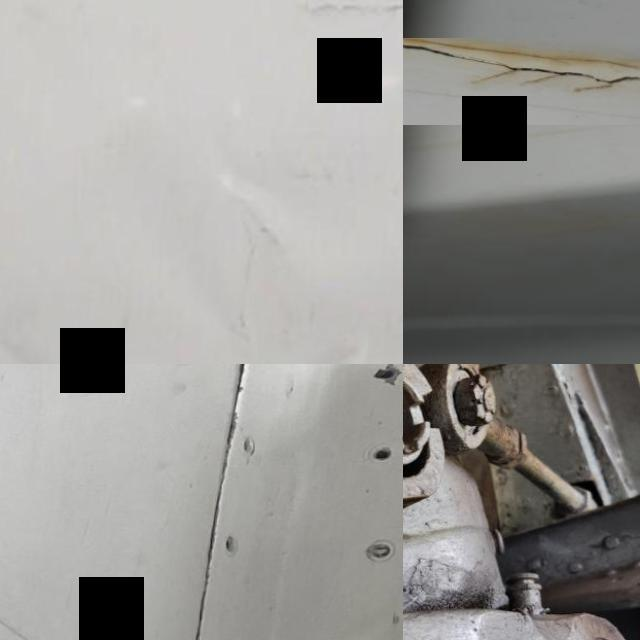Crack: (403, 43, 640, 95)
Dent: (308, 335, 372, 364)
Missing_Fastener: (373, 367, 398, 382), (375, 447, 394, 464), (226, 534, 242, 554)
